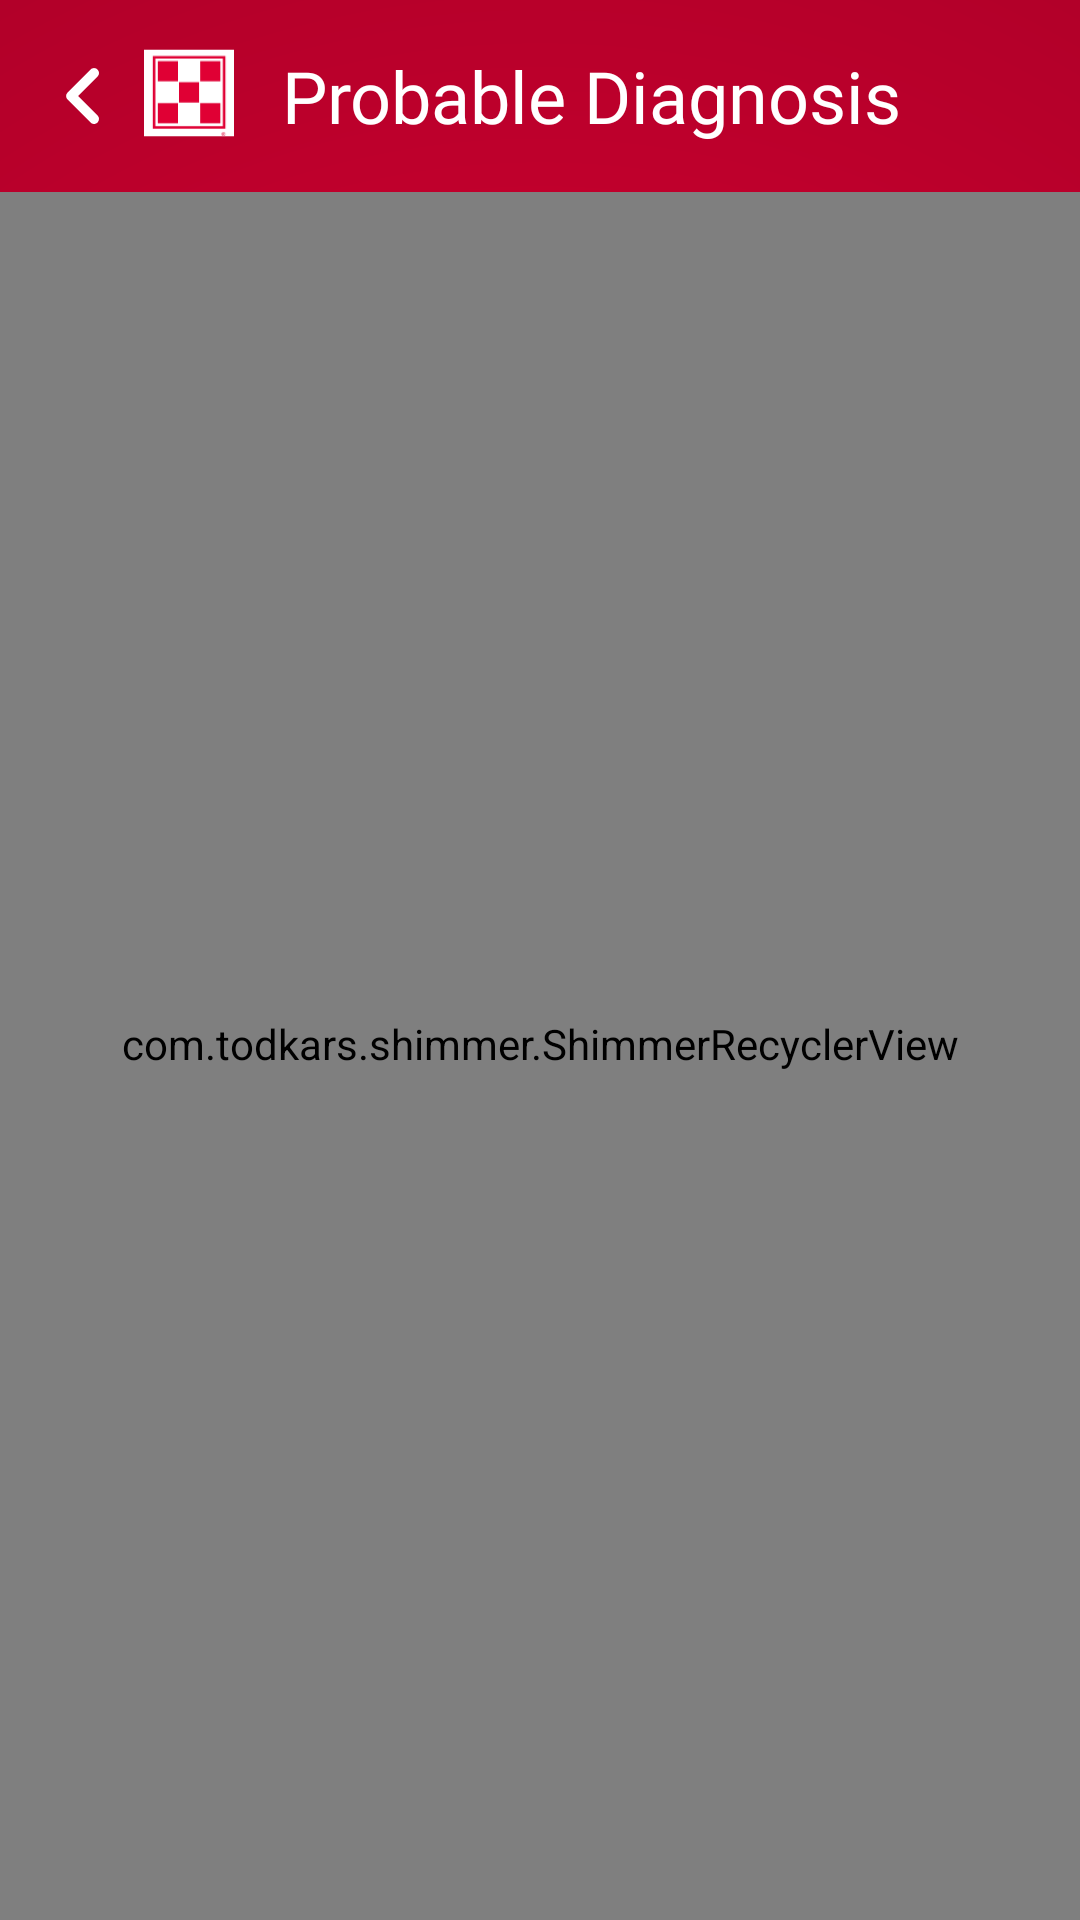

Where to tap for icons on this 1080px×1920px app screen, as [x,y]:
arrow left: [82,96]
